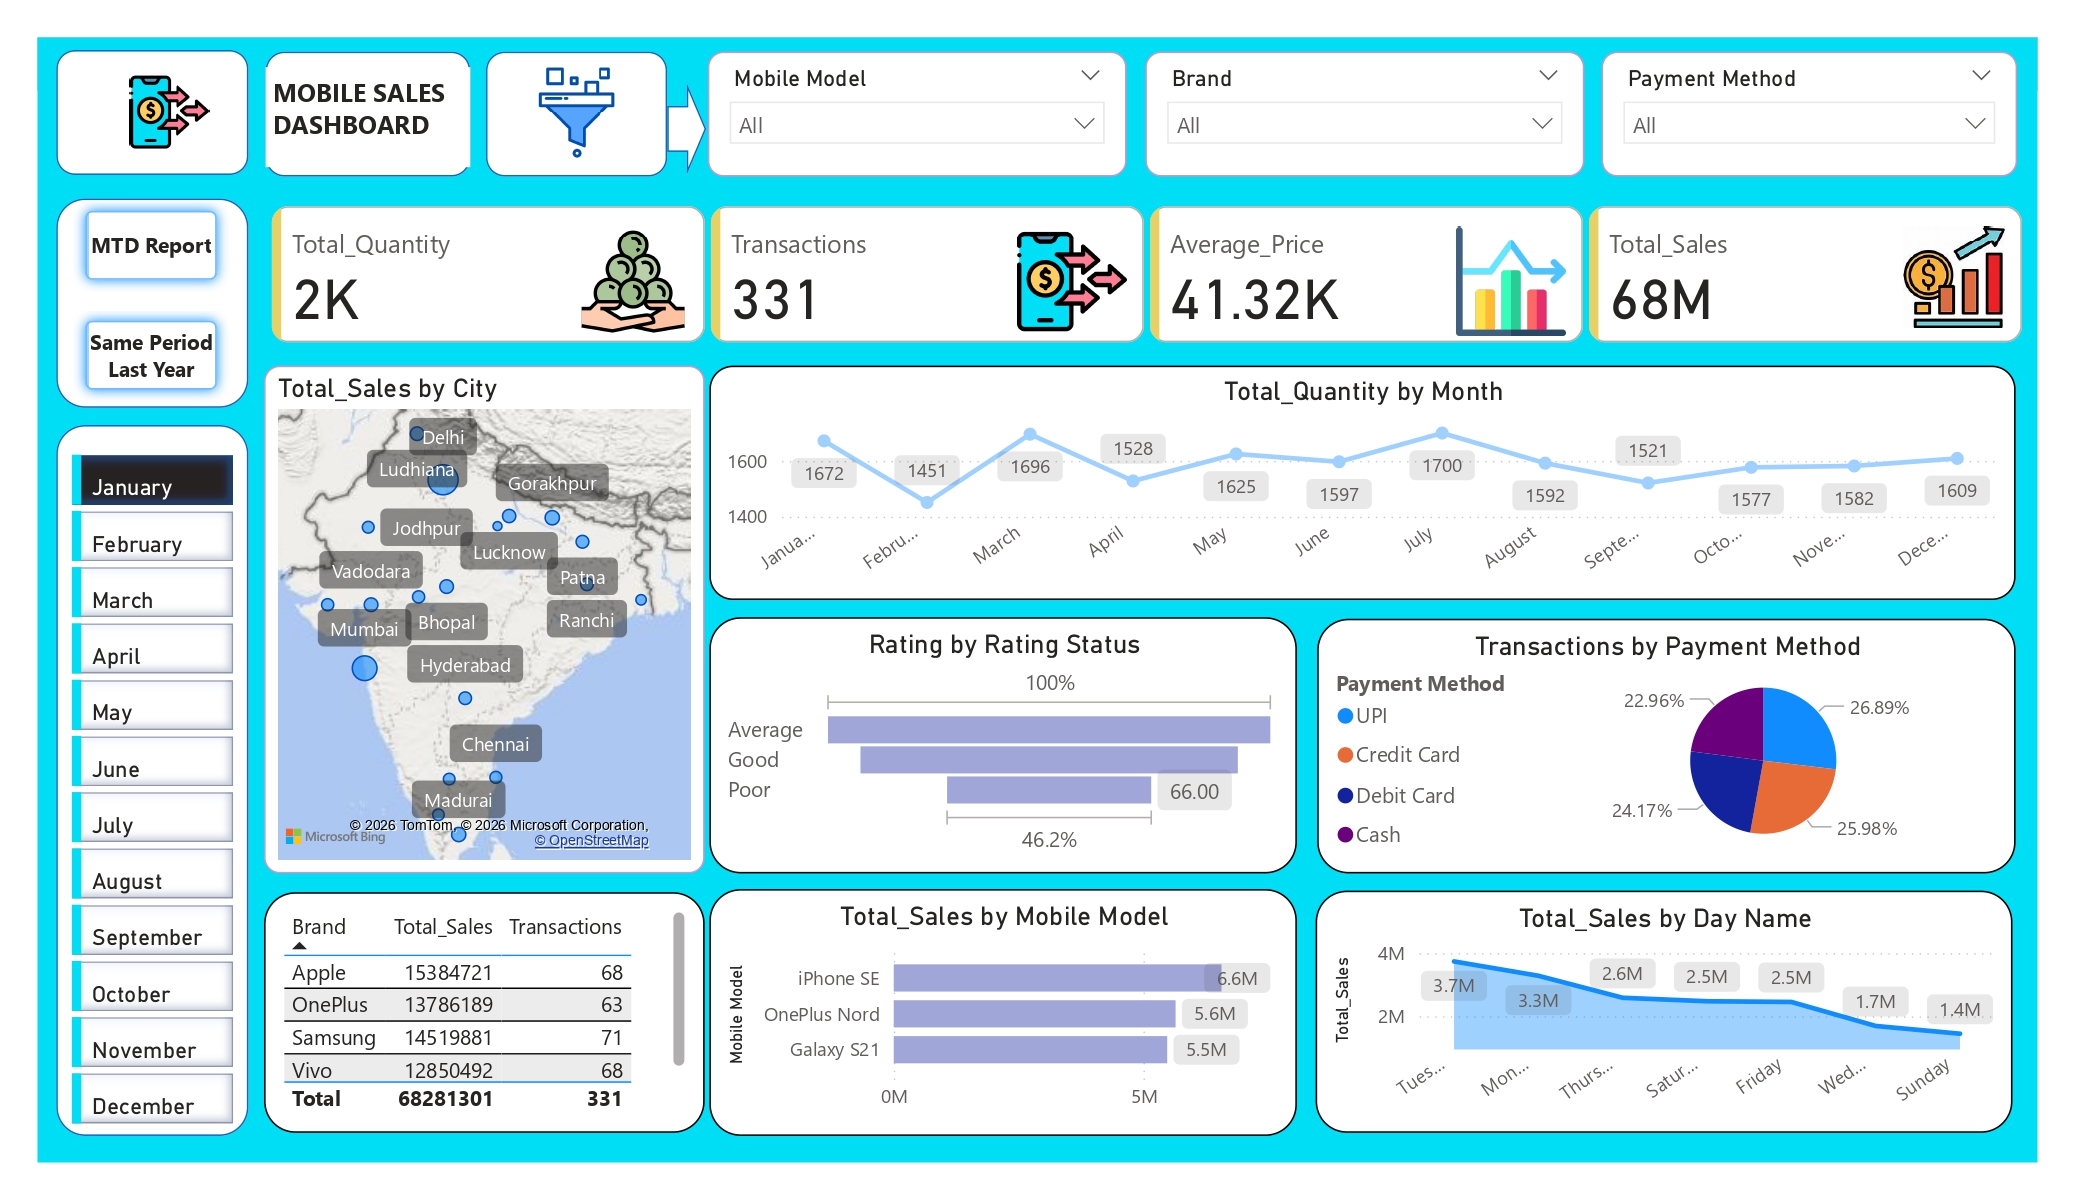

What the dashboard file says about the page in this screenshot:
{"tool":"powerbi","page":{"name":"Dashboard","canvas":[1280,720],"ordinal":0},"visuals":[{"type":"shape","box":[11.7,8.3,123.3,80],"z":0},{"type":"image","box":[0,16.7,168.3,61.7],"z":1000},{"type":"shape","box":[11.7,103.3,123.3,133.3],"z":2000},{"type":"shape","box":[11.7,248.3,123.3,455],"z":3000},{"type":"advancedSlicerVisual","fields":{"Values":["Custom_Calendar.Date.Variation.Date Hierarchy.Month"]},"box":[16.7,261.7,113.3,441.7],"z":4000},{"type":"cardVisual","fields":{"Data":["Sales_Data.Total_Quantity","Sales_Data.Transactions","Sales_Data.Average_Price","Sales_Data.Total_Sales"]},"box":[145.4,103,1129.6,96.9],"z":5000},{"type":"slicer","fields":{"Values":["Sales_Data.Mobile Model"]},"box":[428.6,8.6,268.6,80],"z":6000},{"type":"slicer","fields":{"Values":["Sales_Data.Brand"]},"box":[708.6,8.6,281.4,80],"z":7000},{"type":"slicer","fields":{"Values":["Sales_Data.Payment Method"]},"box":[1001.4,8.6,265.7,80],"z":8000},{"type":"shape","box":[287.1,8.6,115.7,80],"z":9000},{"type":"image","box":[287.1,12.9,115.7,70],"z":10000},{"type":"shape","box":[403.3,29.4,24.4,58.9],"z":11000},{"type":"shape","box":[145.7,8.6,131.4,80],"z":12000},{"type":"textbox","box":[145.7,18.6,131.4,64.3],"z":13000},{"type":"map","fields":{"Category":["Sales_Data.City"],"Size":["Sales_Data.Total_Sales"]},"box":[145.4,210.5,281.6,324],"z":14000},{"type":"lineChart","fields":{"Category":["Custom_Calendar.Date.Variation.Date Hierarchy.Month"],"Y":["Sales_Data.Total_Quantity"]},"box":[430,210.5,835.8,149.9],"z":15000},{"type":"funnel","title":"Rating by Rating Status","fields":{"Y":["CountNonNull(Sales_Data.Customer Age)"],"Category":["Sales_Data.Rating Status"]},"box":[430,371,375.5,163.5],"z":16000},{"type":"pieChart","fields":{"Y":["Sales_Data.Transactions"],"Category":["Sales_Data.Payment Method"]},"box":[819.2,372.5,446.7,162],"z":17000},{"type":"clusteredBarChart","fields":{"Y":["Sales_Data.Total_Sales"],"Category":["Sales_Data.Mobile Model"]},"box":[430,545.1,375.5,157.5],"z":18000},{"type":"areaChart","fields":{"Category":["Custom_Calendar.Day Name"],"Y":["Sales_Data.Total_Sales"]},"box":[818.3,546.1,446,155],"z":19000},{"type":"tableEx","fields":{"Values":["Sales_Data.Brand","Sales_Data.Total_Sales","Sales_Data.Transactions"]},"box":[145.4,546.6,281.6,154.4],"z":20000},{"type":"pageNavigator","box":[22.7,103,99.9,130.2],"z":20001}]}

Visuals, with their boxes in screenshot pixels (x1, y1, x2, y2):
shape: x1=61 y1=51 x2=251 y2=174
image: x1=43 y1=64 x2=303 y2=159
shape: x1=61 y1=197 x2=251 y2=403
shape: x1=61 y1=421 x2=251 y2=1122
advancedSlicerVisual - Custom_Calendar.Date.Variation.Date Hierarchy.Month: x1=69 y1=441 x2=244 y2=1122
cardVisual - Sales_Data.Total_Quantity x Sales_Data.Transactions: x1=267 y1=197 x2=2009 y2=346
slicer - Sales_Data.Mobile Model: x1=704 y1=51 x2=1118 y2=174
slicer - Sales_Data.Brand: x1=1136 y1=51 x2=1570 y2=174
slicer - Sales_Data.Payment Method: x1=1587 y1=51 x2=1997 y2=174
shape: x1=486 y1=51 x2=664 y2=174
image: x1=486 y1=58 x2=664 y2=166
shape: x1=665 y1=83 x2=703 y2=174
shape: x1=268 y1=51 x2=471 y2=174
textbox: x1=268 y1=67 x2=471 y2=166
map - Sales_Data.City x Sales_Data.Total_Sales: x1=267 y1=362 x2=702 y2=862
lineChart - Custom_Calendar.Date.Variation.Date Hierarchy.Month x Sales_Data.Total_Quantity: x1=706 y1=362 x2=1995 y2=594
"Rating by Rating Status" funnel: x1=706 y1=610 x2=1285 y2=862
pieChart - Sales_Data.Transactions x Sales_Data.Payment Method: x1=1306 y1=612 x2=1995 y2=862
clusteredBarChart - Sales_Data.Total_Sales x Sales_Data.Mobile Model: x1=706 y1=878 x2=1285 y2=1121
areaChart - Custom_Calendar.Day Name x Sales_Data.Total_Sales: x1=1305 y1=880 x2=1993 y2=1119
tableEx - Sales_Data.Brand x Sales_Data.Total_Sales: x1=267 y1=881 x2=702 y2=1119
pageNavigator: x1=78 y1=197 x2=232 y2=397
